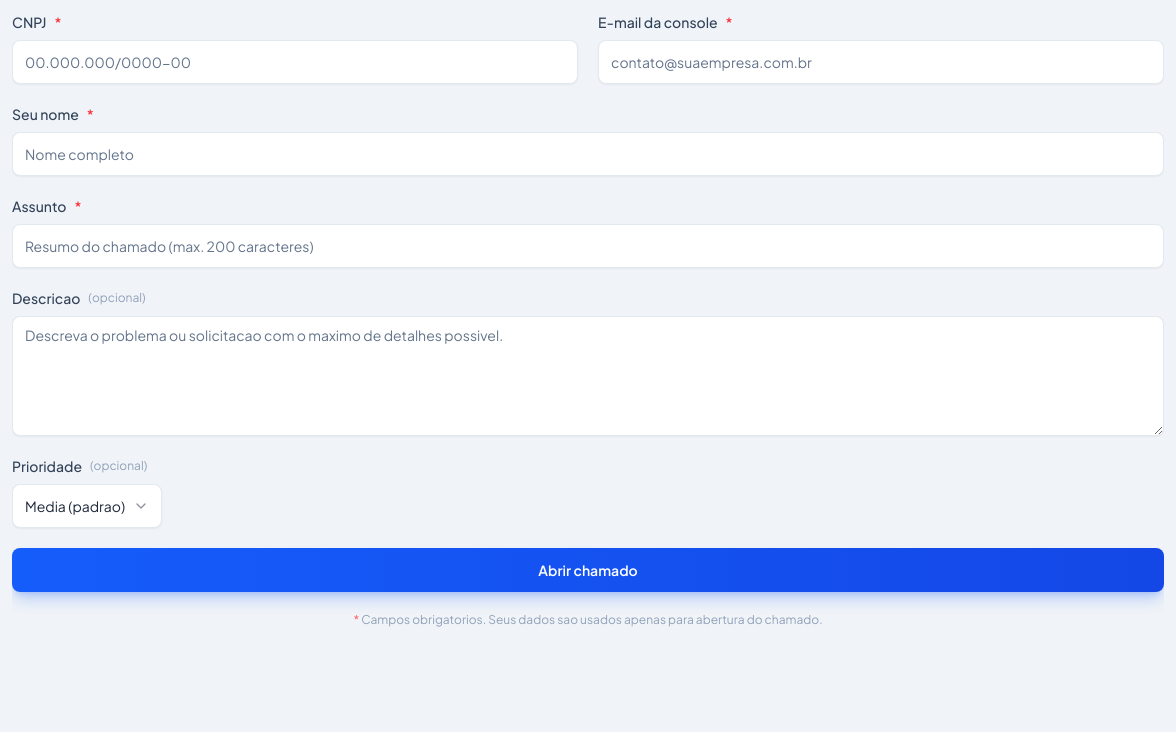
Test case: TicketForm › (sad) submit com 422 exibe mensagem de erro e MANTEM os campos preenchidos
The width and height of the screenshot is (1176, 732).
Type "11222333000181" into the field labelled "CNPJ *". click: [295, 62]
box: [12,40,578,84]
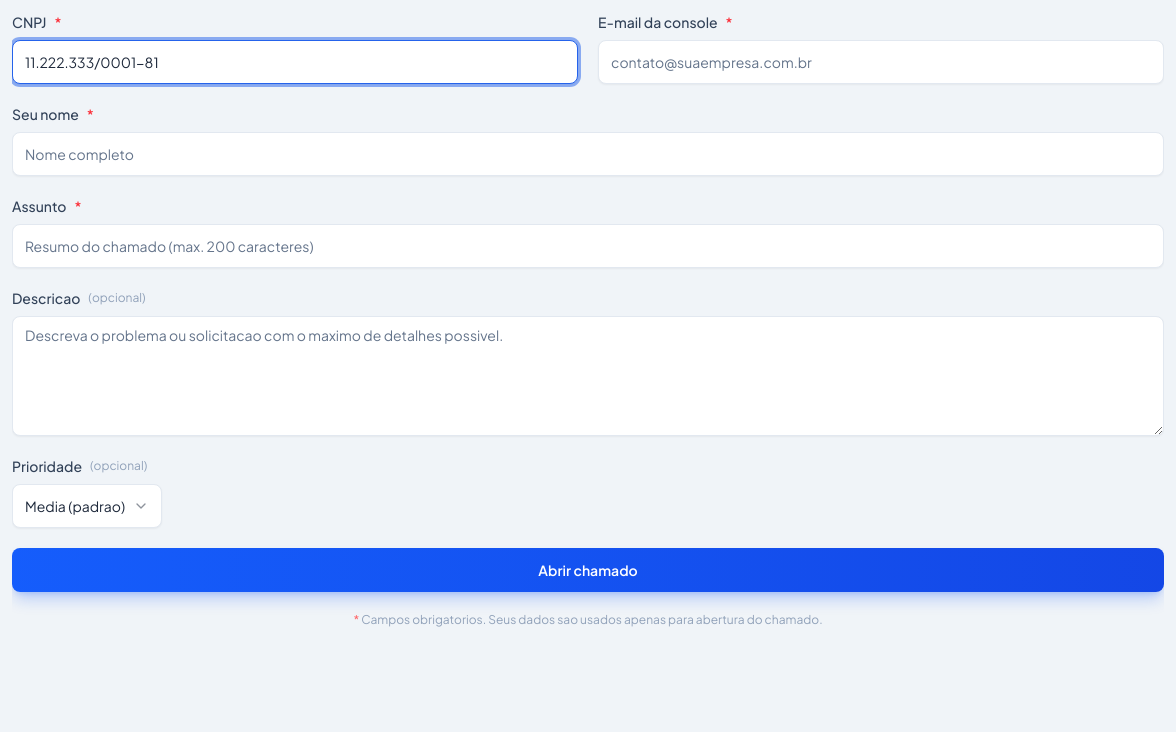
Type "contato@empresa.com" into the field labelled "E-mail da console *". click: [881, 62]
box: [598,40,1164,84]
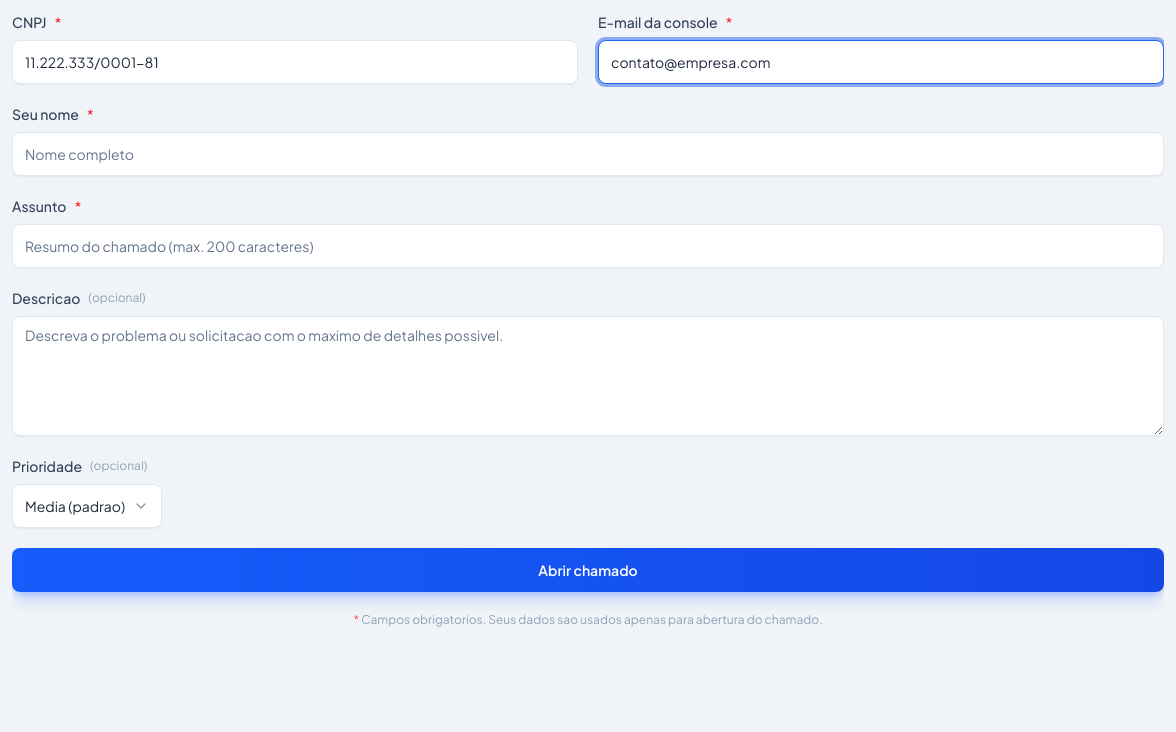
Type "Joao Silva" into the field labelled "Seu nome *". click: [588, 154]
box: [12,132,1164,176]
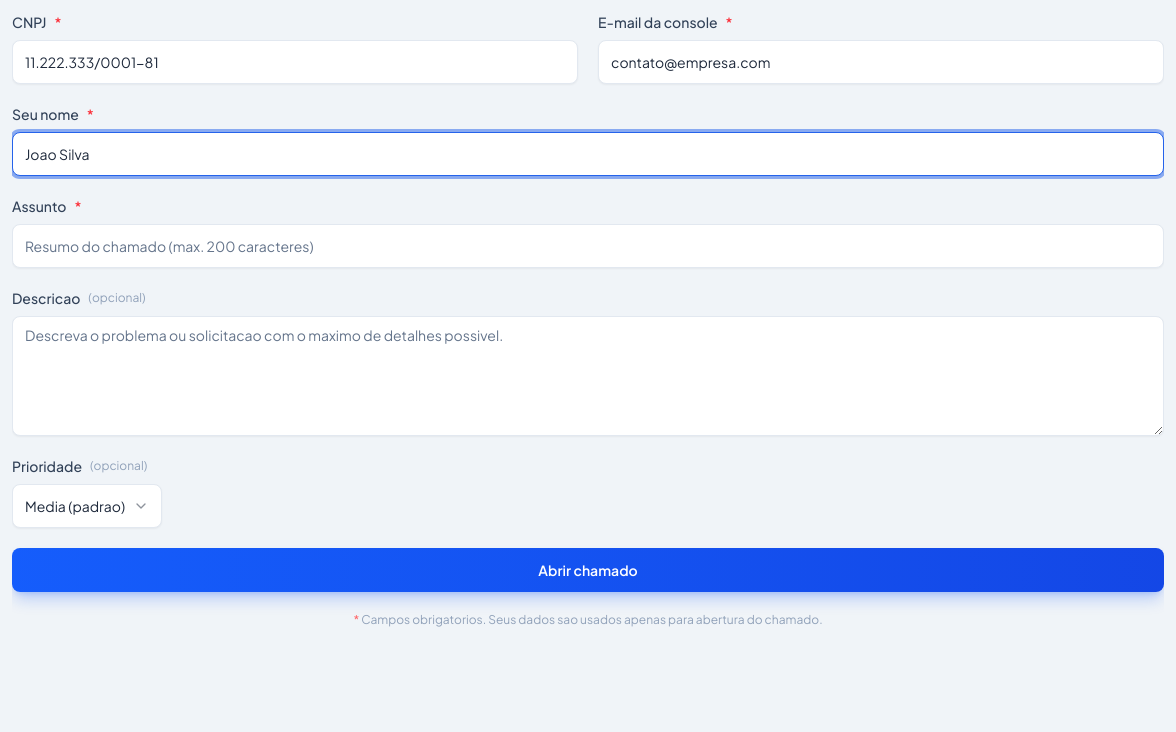
Type "Problema de acesso" into the field labelled "Assunto *". click: [588, 246]
box: [12,224,1164,268]
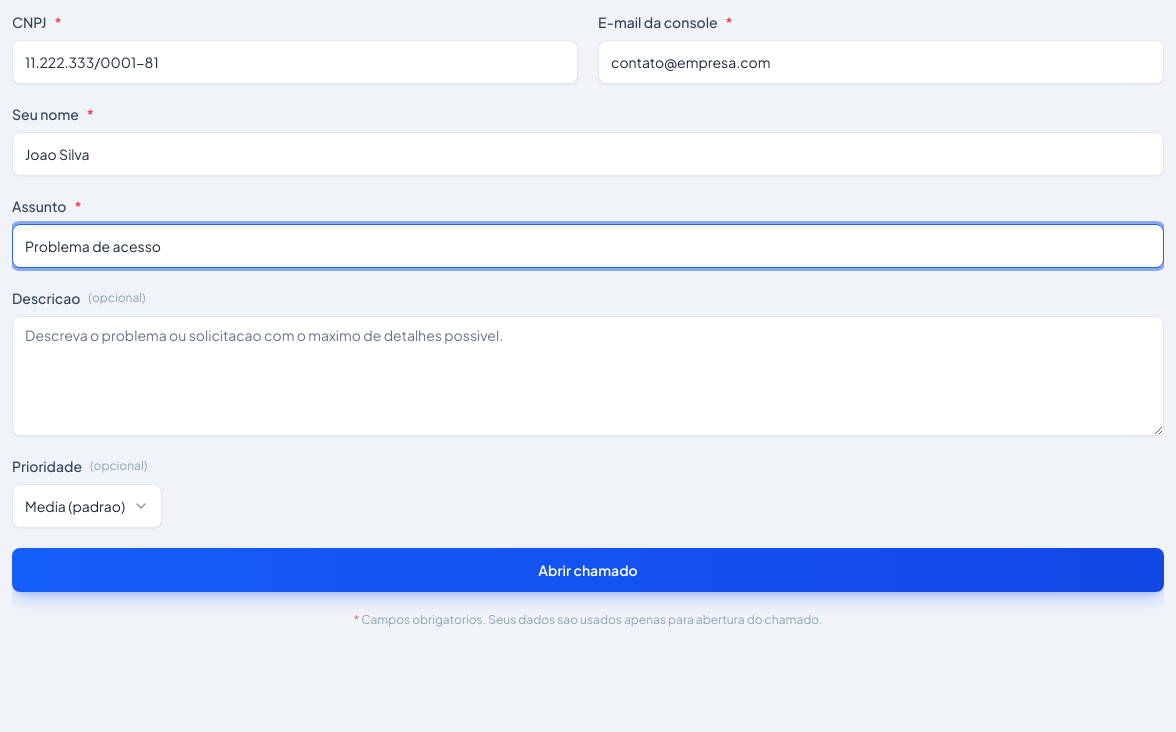
Type "Nao consigo acessar o portal." into the text box labelled "Descricao (opcional)". click: [588, 376]
box: [12,316,1164,436]
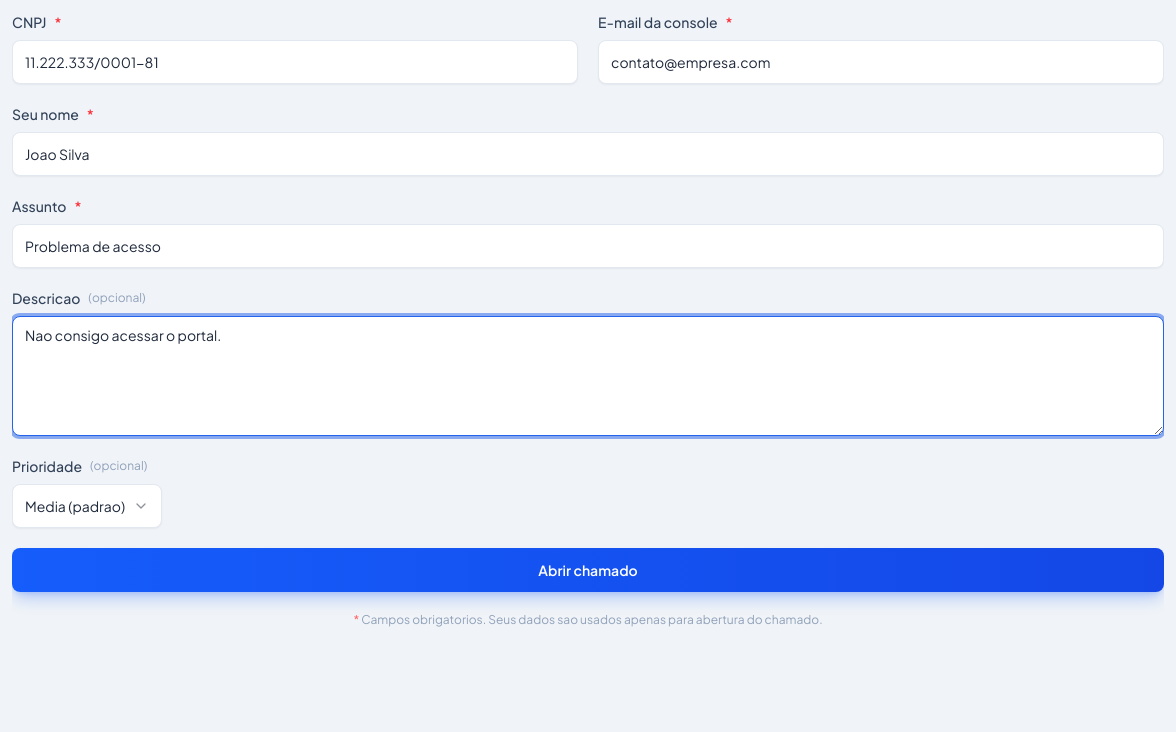
Click the button "Abrir chamado". click: [588, 570]
box: [12,548,1164,592]
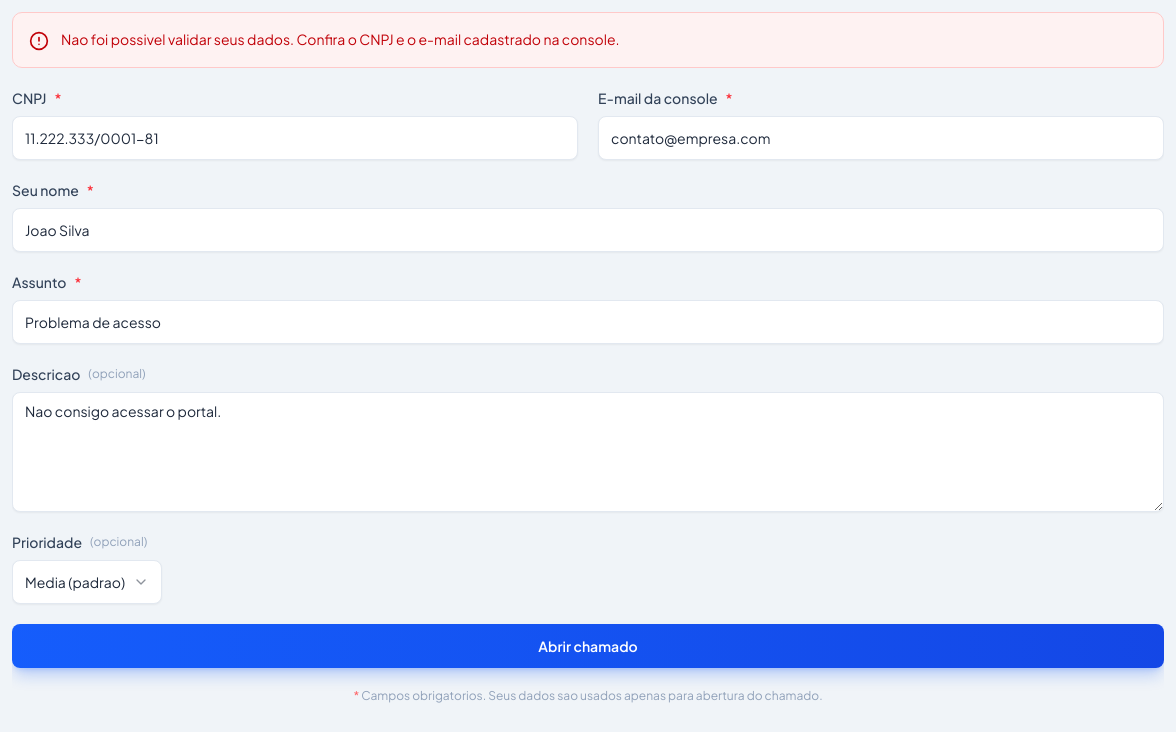
Now the message is shown, box [12,12,1164,68]
Now the text "Nao foi possivel validar seus dados" is shown, box [61,30,620,48]
